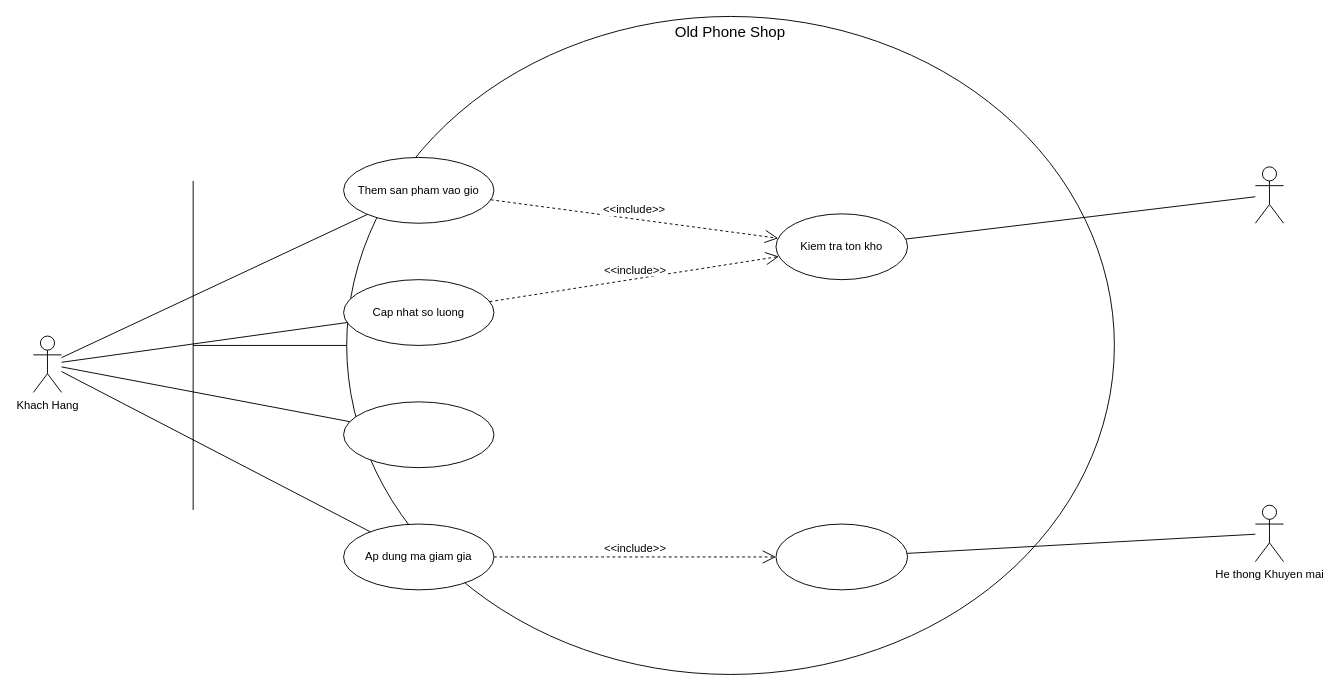
Image size: 1340x691. Some labels were removed from this diagram. The shapes that lost their labels are listed below. From the top down, each one's box as (x1, y1, x2, y2) in pixels, then its label:
(1254, 166, 1284, 223): He thong Ton kho
(343, 401, 494, 468): Xoa san pham khoi gio
(775, 523, 908, 590): Xac thuc ma khuyen mai
